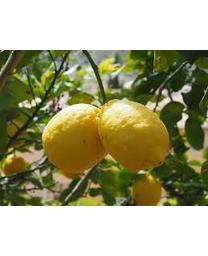lemon: (97, 97, 169, 166), (41, 105, 107, 172)
